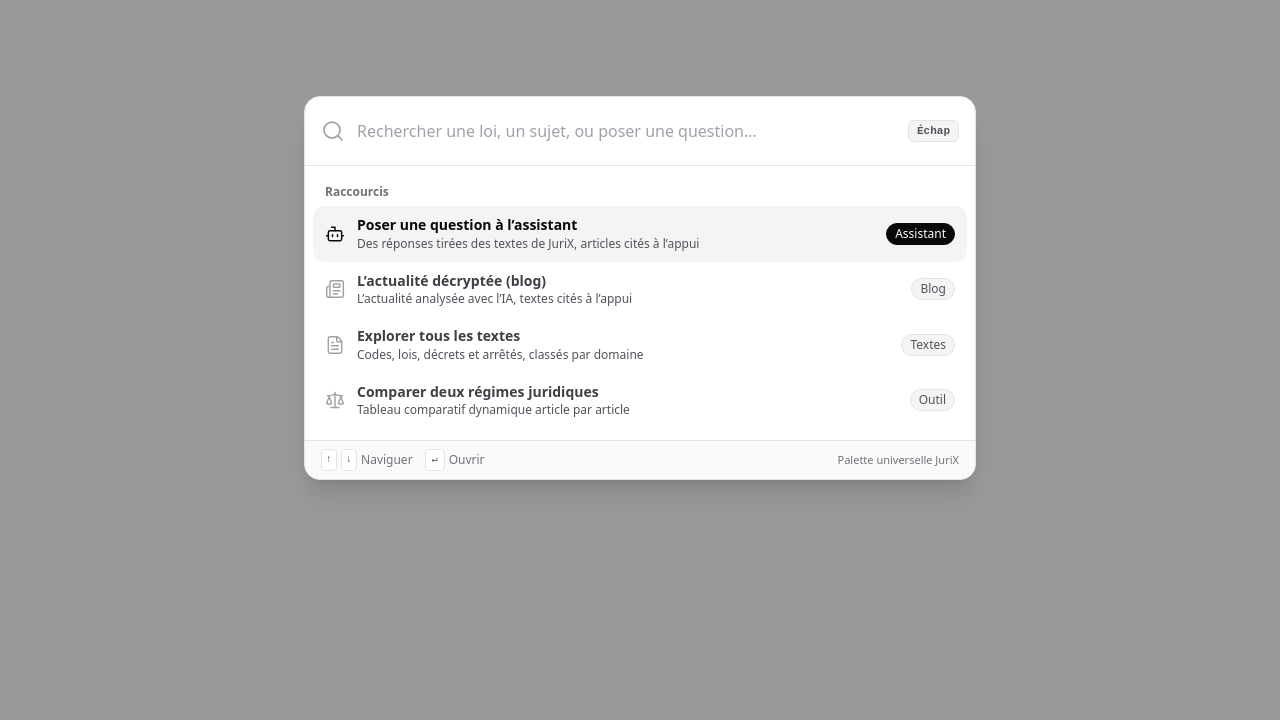
Scenario: CommandPalette › nomme chaque texte par sa nature, sans cote interne
Type "travail" into the field at (626, 131), box [357,111,896,151]
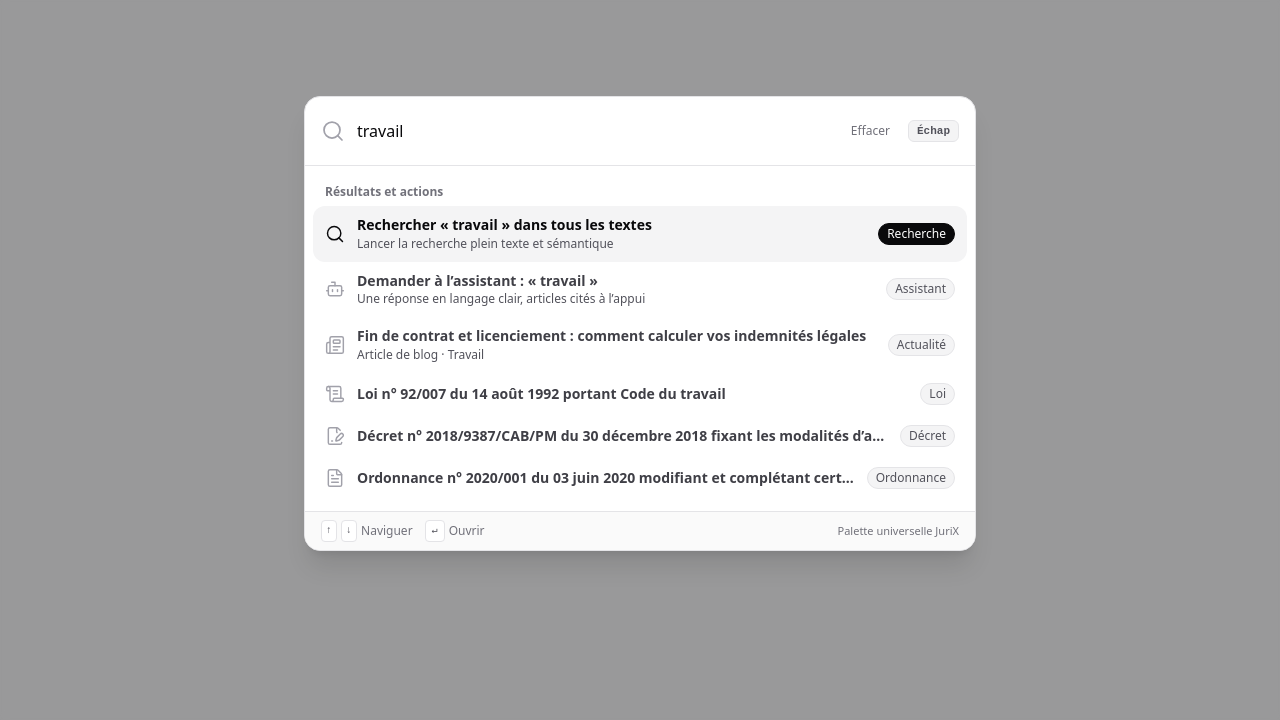
Expected: the text "Rechercher « travail » dans tous les textes" is shown, [357,216,652,234]
Expected: the text "Résultats et actions" is shown, [325,183,443,200]
